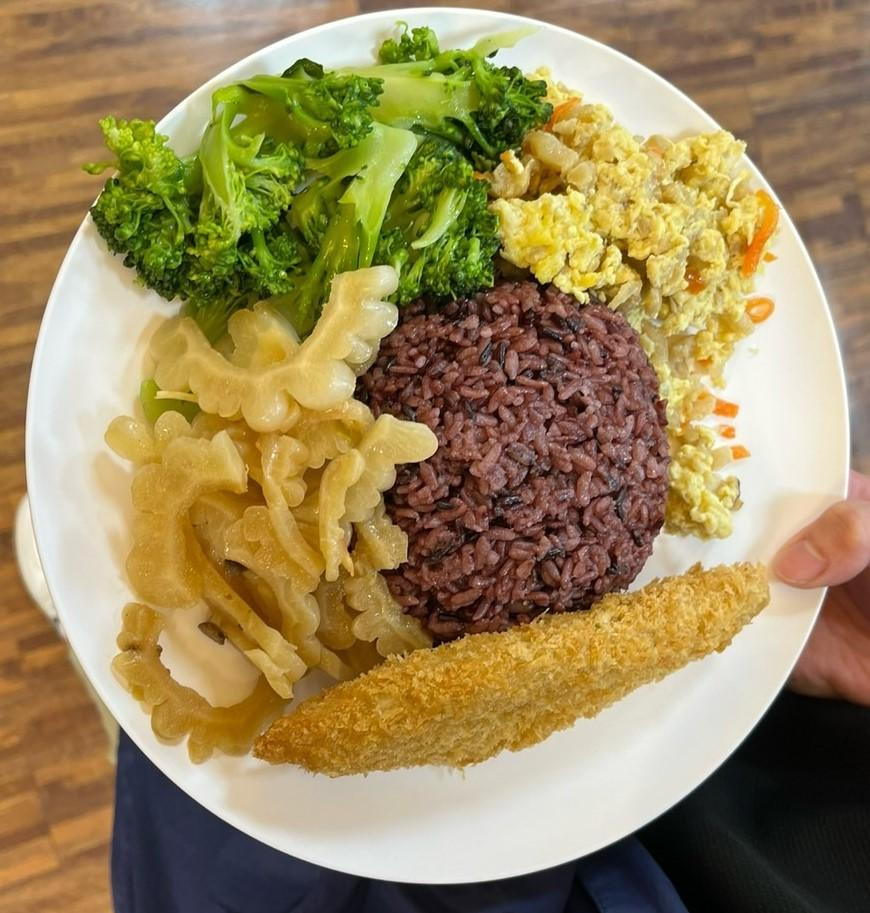big fried chicken leg: (24, 2, 864, 898)
braised fish: (368, 284, 664, 635)
braised fish fillet: (101, 260, 432, 760), (77, 28, 538, 314), (490, 86, 770, 535)
braised pork: (256, 552, 782, 789)
